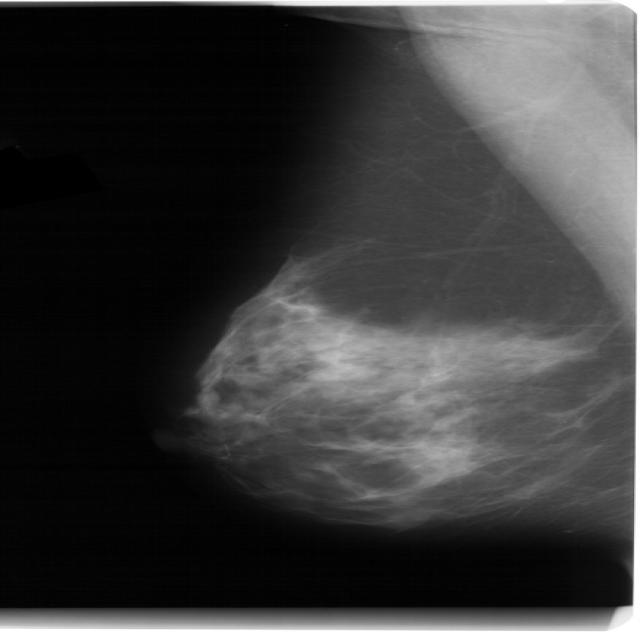tumour: (263, 293, 319, 318)
